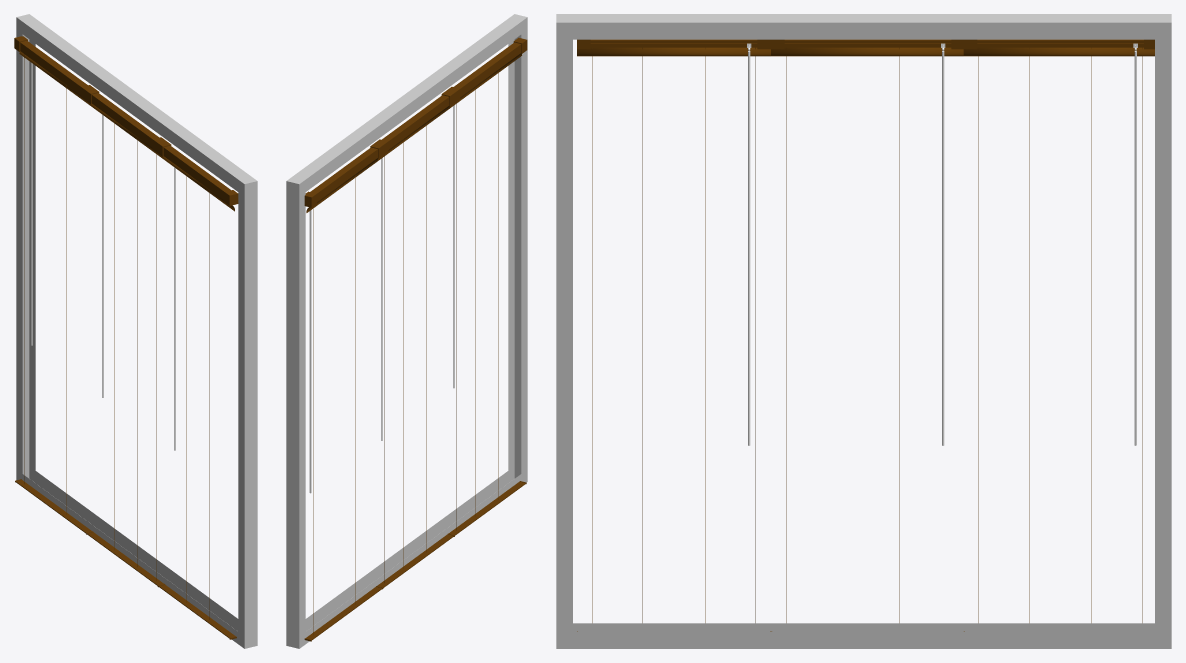
Rendered from Window.glb.
3 renders of one model, left to right at view 1: azimuth 30°, elevation 25°; view 2: azimuth 150°, elevation 25°; view 3: azimuth 270°, elevation 25°, orthographic. The views are drawn at different scales.
Parts seen in each view (by area): view 1: Frame, Blind_45x150cm Closed.001, Blind_45x150cm Closed.002, Blind_45x150cm Closed, Cylinder.002, Cylinder.003, Cylinder.001; view 2: Frame, Blind_45x150cm Closed.001, Blind_45x150cm Closed.002, Blind_45x150cm Closed, Cylinder.002, Cylinder.003, Cylinder.001; view 3: Frame, Blind_45x150cm Closed.002, Blind_45x150cm Closed, Blind_45x150cm Closed.001, Blind_45cm.003, Blind_45cm.001, Blind_45cm.002, Cylinder.002, Cylinder.001, Cylinder.003.
Part boxes in pixels (left/top/right/bottom): Frame: left=16, top=14, right=257, bottom=648; Blind_45x150cm Closed.001: left=85, top=88, right=165, bottom=586; Blind_45x150cm Closed.002: left=157, top=141, right=238, bottom=639; Blind_45x150cm Closed: left=14, top=36, right=93, bottom=534; Cylinder.002: left=31, top=62, right=32, bottom=345; Cylinder.003: left=174, top=167, right=175, bottom=450; Cylinder.001: left=102, top=115, right=103, bottom=397; Frame: left=286, top=14, right=527, bottom=648; Blind_45x150cm Closed.001: left=375, top=90, right=455, bottom=589; Blind_45x150cm Closed.002: left=447, top=37, right=527, bottom=536; Blind_45x150cm Closed: left=304, top=143, right=383, bottom=641; Cylinder.002: left=309, top=210, right=311, bottom=493; Cylinder.003: left=453, top=105, right=454, bottom=388; Cylinder.001: left=381, top=158, right=382, bottom=440; Frame: left=556, top=14, right=1171, bottom=648; Blind_45x150cm Closed.002: left=577, top=39, right=770, bottom=631; Blind_45x150cm Closed: left=963, top=39, right=1154, bottom=622; Blind_45x150cm Closed.001: left=771, top=39, right=964, bottom=631; Blind_45cm.003: left=577, top=47, right=770, bottom=56; Blind_45cm.001: left=771, top=47, right=963, bottom=56; Blind_45cm.002: left=963, top=47, right=1154, bottom=56; Cylinder.002: left=1134, top=51, right=1136, bottom=445; Cylinder.001: left=942, top=51, right=944, bottom=445; Cylinder.003: left=748, top=51, right=750, bottom=445.
Size of the model in its own units: 0.0789 by 1.73 by 1.54.
